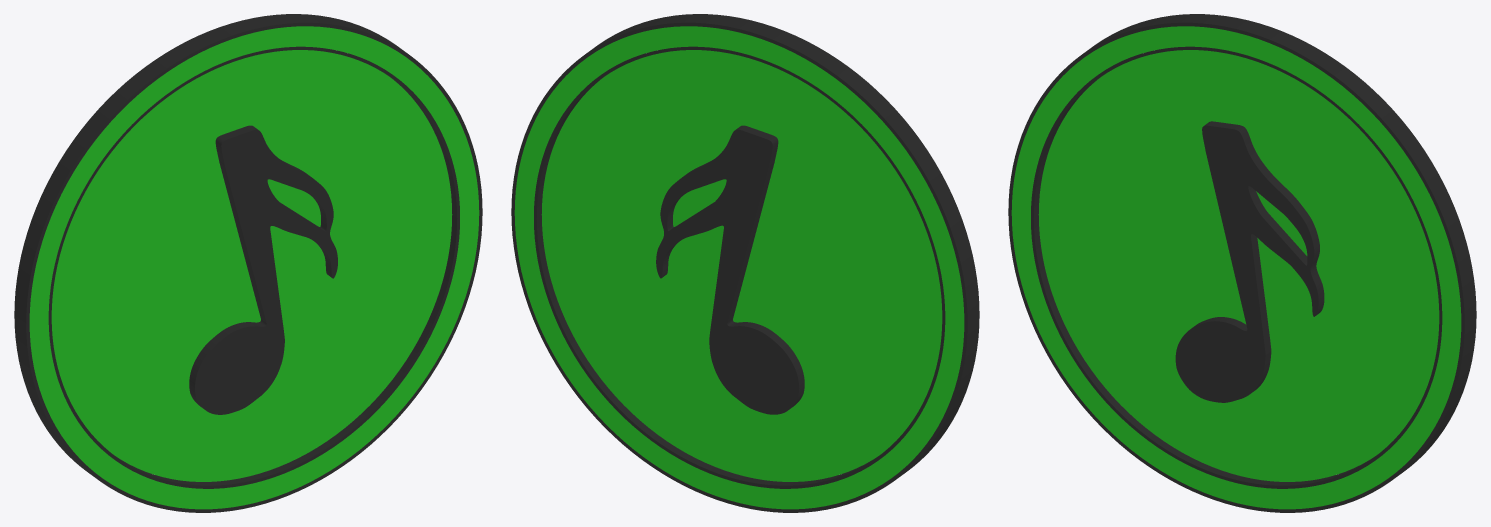
The model's file is Note_5.glb.
3 renders of one model, left to right at view 1: azimuth 30°, elevation 25°; view 2: azimuth 150°, elevation 25°; view 3: azimuth 330°, elevation 25°, orthographic.
Visible parts, largest first — view 1: Circle, Note_5; view 2: Circle, Note_5; view 3: Circle, Note_5.
Part boxes in pixels (x1,y1,x2,y2): Circle: (14,14,482,512); Note_5: (189,125,337,414); Circle: (511,14,979,512); Note_5: (656,125,804,414); Circle: (1008,14,1476,512); Note_5: (1175,121,1324,402).
Bounding box in the file's own units: 2 × 2 × 0.1.
